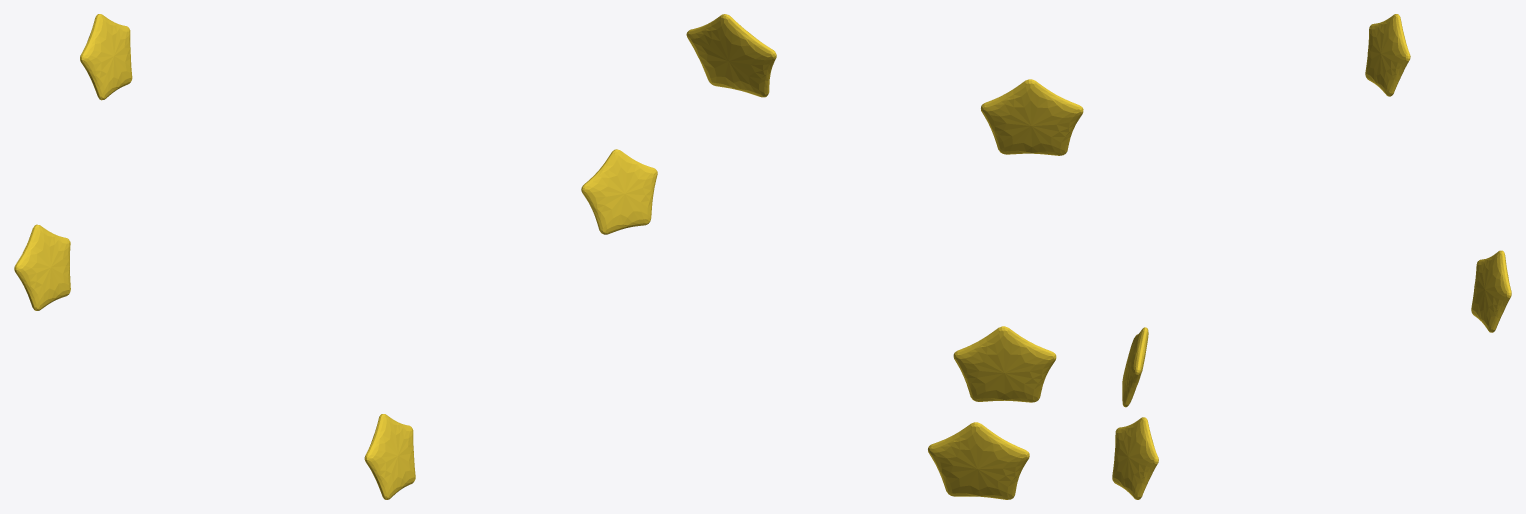
Rendered from Stars.glb.
3 views of the same model, side by side, from view 1: azimuth 30°, elevation 25°; view 2: azimuth 150°, elevation 25°; view 3: azimuth 270°, elevation 25° (orthographic). The views are drawn at different scales.
Parts seen in each view (by area): view 1: Cylinder, Cylinder.007, Cylinder.014, Cylinder.023; view 2: Cylinder.023, Cylinder.014, Cylinder.007, Cylinder; view 3: Cylinder.023, Cylinder.014, Cylinder.007, Cylinder.
Boxes of the visible parts, box(x1,y1,x2,y2) form: Cylinder: box(581, 149, 657, 234); Cylinder.007: box(14, 224, 70, 310); Cylinder.014: box(80, 14, 132, 100); Cylinder.023: box(364, 414, 415, 499); Cylinder.023: box(953, 326, 1056, 402); Cylinder.014: box(981, 79, 1083, 155); Cylinder.007: box(928, 422, 1029, 499); Cylinder: box(686, 14, 776, 97); Cylinder.023: box(1112, 417, 1158, 499); Cylinder.014: box(1365, 14, 1410, 96); Cylinder.007: box(1471, 250, 1511, 332); Cylinder: box(1122, 327, 1148, 407).
Size of the model in its own units: 8.65 by 7.35 by 6.64.
